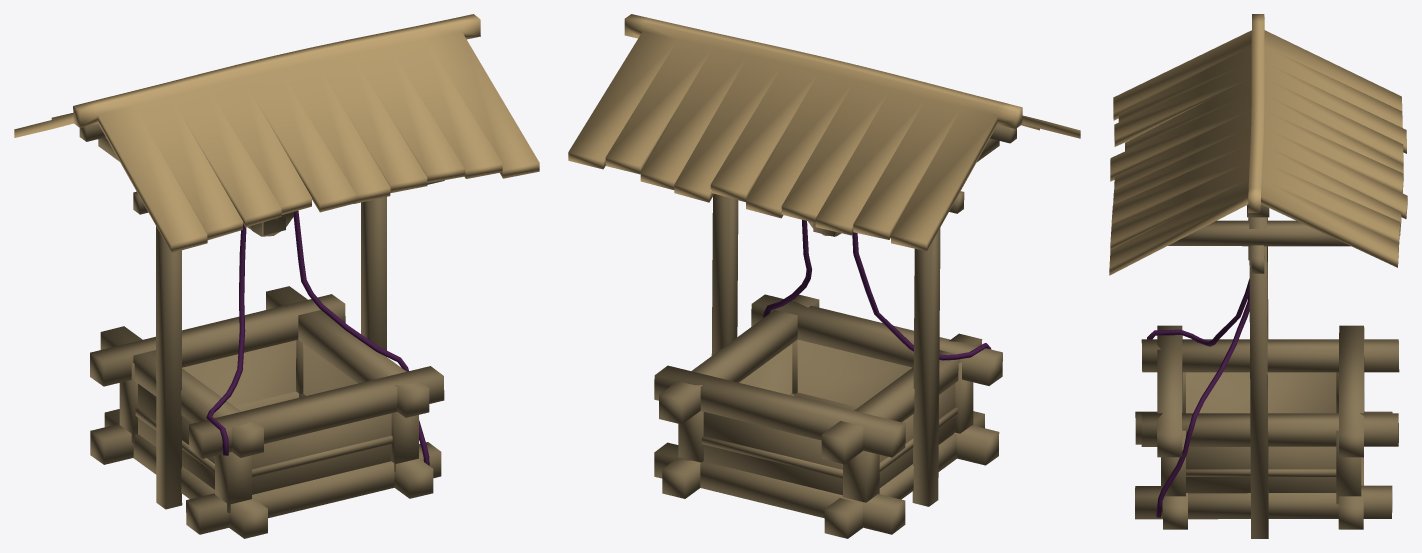
The model's file is well.fbx.
3 views of the same model, side by side, from view 1: azimuth 30°, elevation 25°; view 2: azimuth 150°, elevation 25°; view 3: azimuth 270°, elevation 25° (orthographic). The views are drawn at different scales.
Parts seen in each view (by area): view 1: well; view 2: well; view 3: well.
Boxes of the visible parts, x1,y1,x2,y2 form: well: (14,14,539,538); well: (568,14,1080,538); well: (1109,14,1407,538).
Size of the model in its own units: 154 by 155 by 108.
